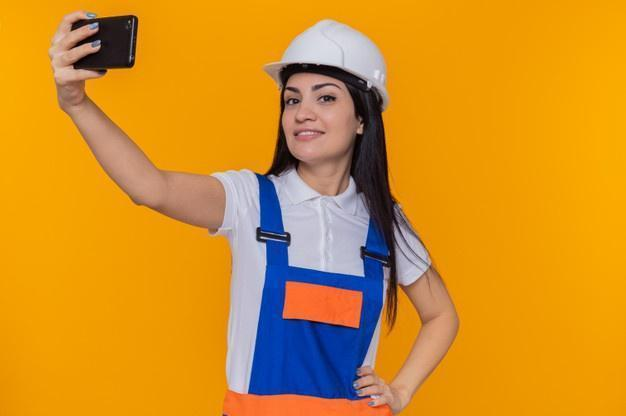helmet: (260, 19, 390, 110)
